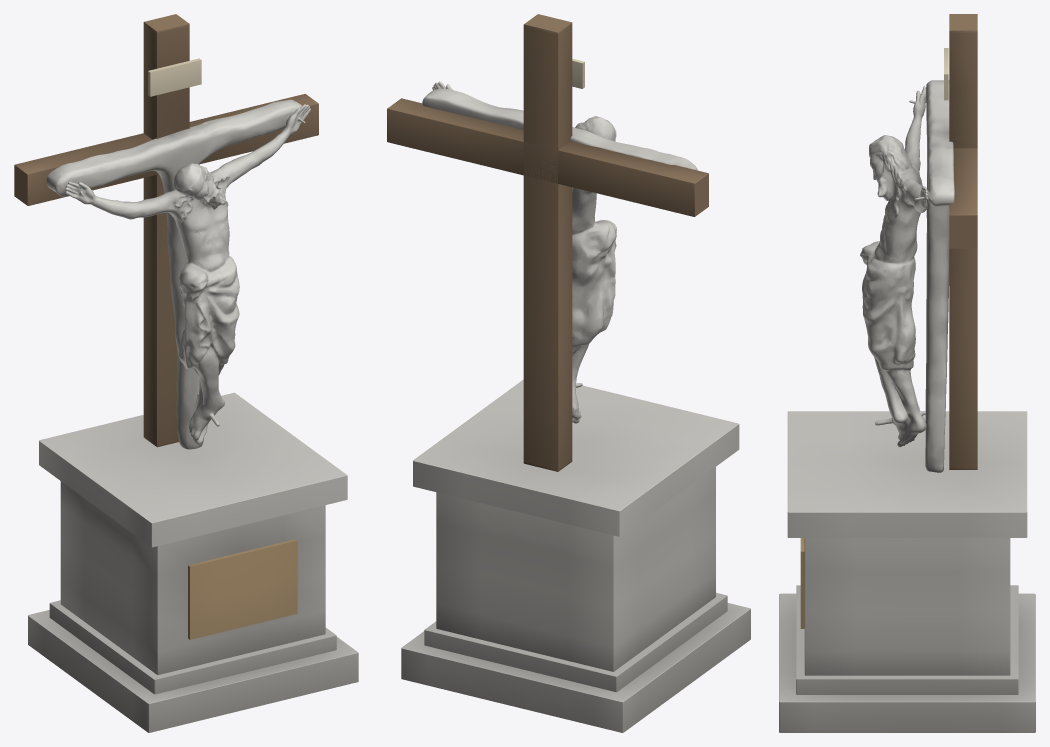
Rendered from obj_kit_jesus.glb.
The picture shows the model from 3 angles, left to right: view 1: azimuth 30°, elevation 25°; view 2: azimuth 150°, elevation 25°; view 3: azimuth 270°, elevation 25°; orthographic projection. The views are drawn at different scales.
Visible parts, largest first — view 1: Cube.002, scan, Cube.001, Cube, Cube.005, Cube.004, Cube.003, Cube.006, Cube.007; view 2: Cube.001, Cube.002, Cube.005, Cube, Cube.006, scan, Cube.003; view 3: Cube.001, Cube.002, scan, Cube, Cube.005, Cube.003, Cube.006, Cube.004.
Part boxes in pixels (bbox=[...]): Cube.002: bbox=[39, 392, 347, 547]; scan: bbox=[46, 99, 310, 449]; Cube.001: bbox=[60, 481, 325, 674]; Cube: bbox=[28, 610, 358, 732]; Cube.005: bbox=[143, 14, 189, 447]; Cube.004: bbox=[188, 539, 297, 639]; Cube.003: bbox=[49, 600, 336, 694]; Cube.006: bbox=[14, 94, 318, 205]; Cube.007: bbox=[148, 58, 201, 96]; Cube.001: bbox=[436, 467, 715, 671]; Cube.002: bbox=[413, 379, 739, 536]; Cube.005: bbox=[523, 14, 572, 471]; Cube: bbox=[401, 603, 750, 732]; Cube.006: bbox=[387, 98, 708, 216]; scan: bbox=[422, 81, 697, 423]; Cube.003: bbox=[424, 592, 727, 692]; Cube.001: bbox=[804, 538, 1010, 675]; Cube.002: bbox=[787, 411, 1027, 537]; scan: bbox=[860, 80, 954, 472]; Cube: bbox=[779, 593, 1035, 732]; Cube.005: bbox=[949, 14, 977, 469]; Cube.003: bbox=[796, 585, 1018, 694]; Cube.006: bbox=[949, 148, 977, 248]; Cube.004: bbox=[800, 538, 804, 628].
Bounding box in the file's own units: 1.25 × 2.54 × 0.9.
